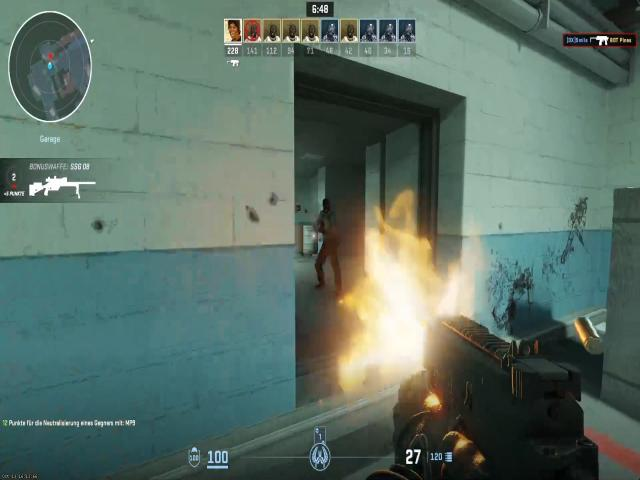T: (315, 194, 343, 252)
T-Head: (318, 197, 336, 220)
